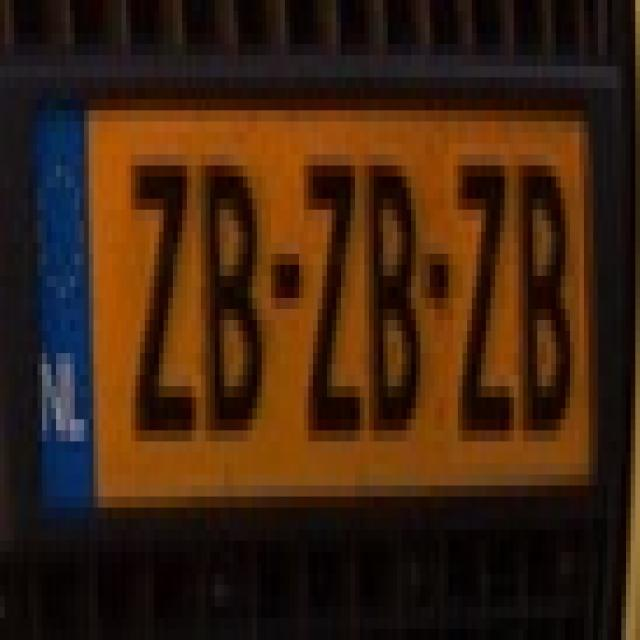LicensePlate: (22, 59, 606, 572)
